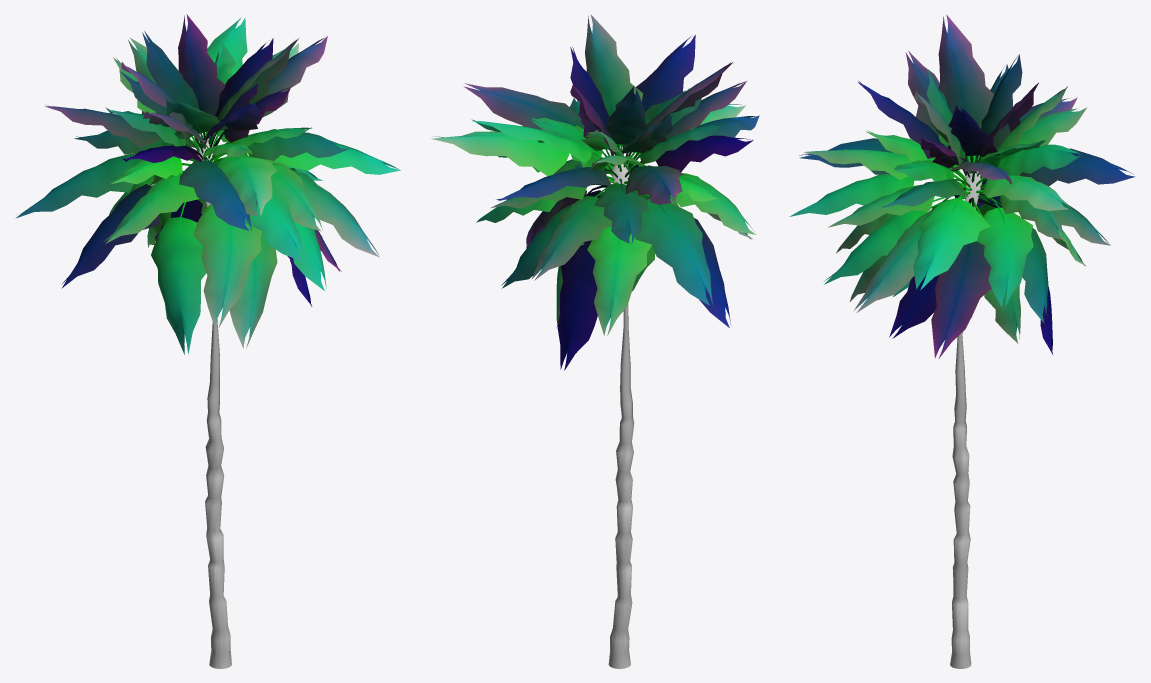
Rendered from acai palm.fbx.
The picture shows the model from 3 angles, left to right: view 1: azimuth 30°, elevation 25°; view 2: azimuth 150°, elevation 25°; view 3: azimuth 270°, elevation 25°; orthographic projection. The views are drawn at different scales.
Visible parts, largest first — view 1: Tree_1, Tree_0, Tree_2; view 2: Tree_1, Tree_0, Tree_2; view 3: Tree_1, Tree_0, Tree_2.
Part boxes in pixels (left/top/right/bottom): Tree_1: left=15, top=14, right=400, bottom=354; Tree_0: left=196, top=140, right=231, bottom=668; Tree_2: left=114, top=98, right=298, bottom=245; Tree_1: left=431, top=14, right=759, bottom=370; Tree_0: left=608, top=164, right=634, bottom=668; Tree_2: left=557, top=105, right=689, bottom=266; Tree_1: left=789, top=14, right=1135, bottom=358; Tree_0: left=950, top=171, right=982, bottom=668; Tree_2: left=887, top=106, right=1015, bottom=258.
Bounding box in the file's own units: 297 × 583 × 307.
